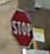stop: (9, 8, 34, 48)
